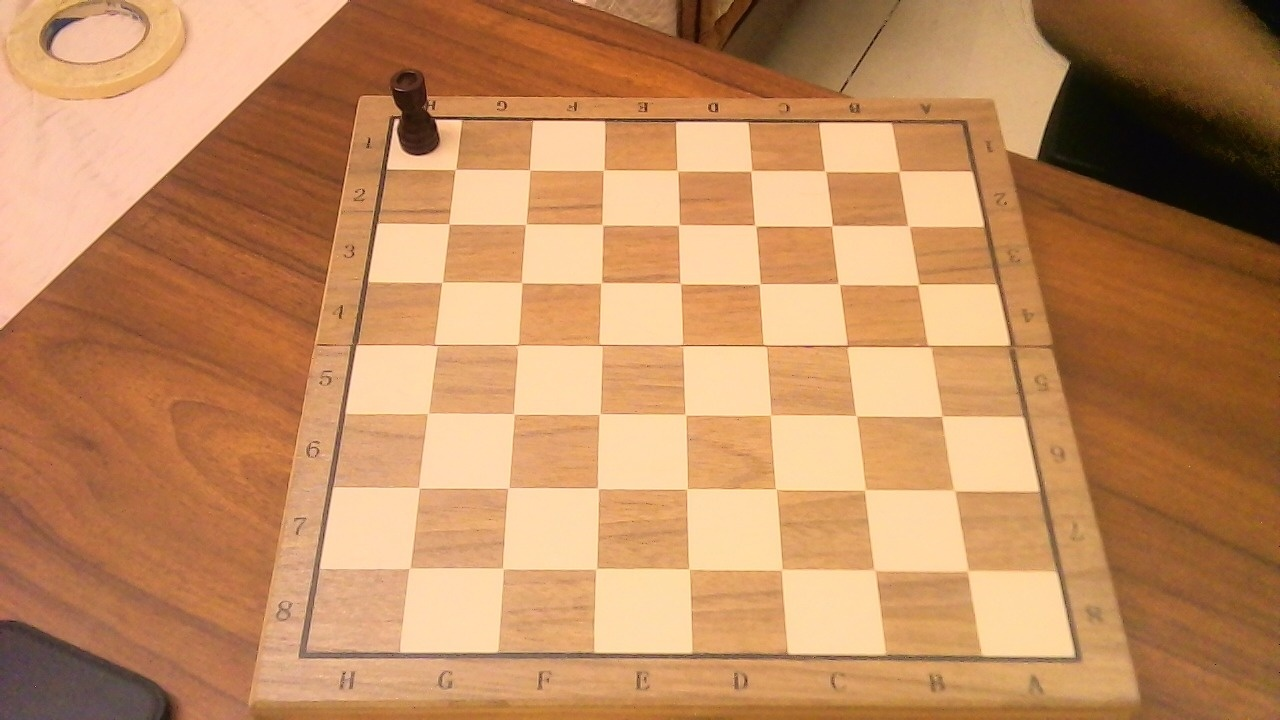r: (386, 58, 447, 159)
